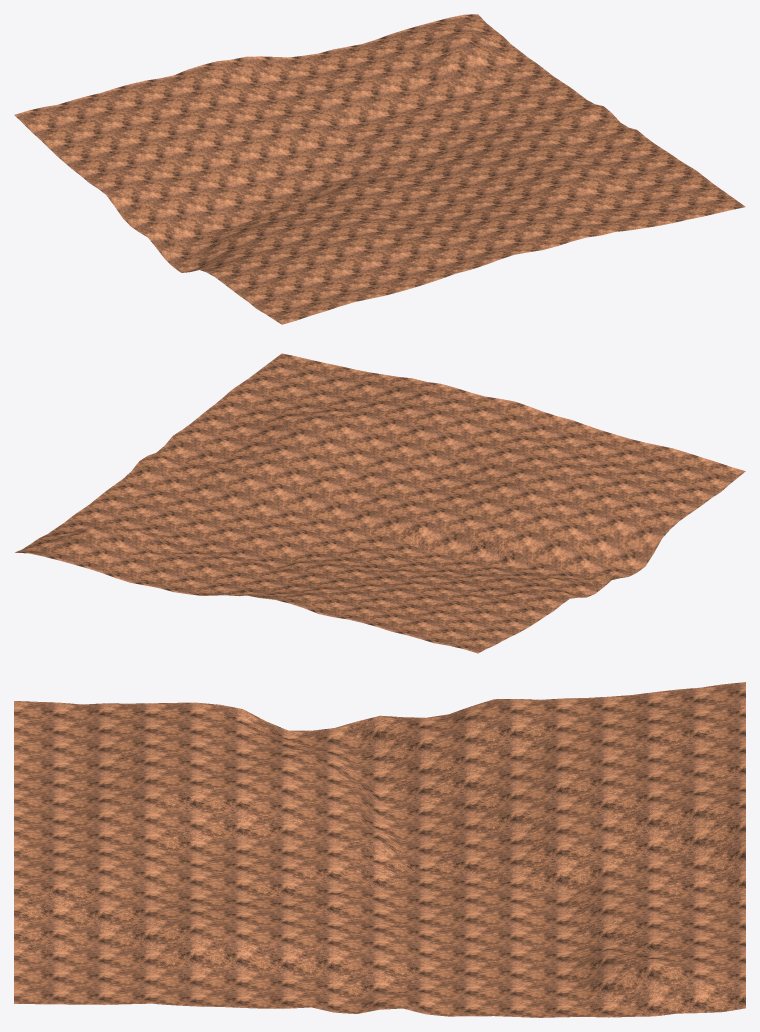
Rendered from terrain_06_18.dae.
3 renders of one model, top to bottom at view 1: azimuth 30°, elevation 25°; view 2: azimuth 150°, elevation 25°; view 3: azimuth 270°, elevation 25°, orthographic. The views are drawn at different scales.
Parts seen in each view (by area): view 1: terrain_06_18-node; view 2: terrain_06_18-node; view 3: terrain_06_18-node.
Part boxes in pixels (left/top/right/bottom): terrain_06_18-node: left=14, top=14, right=745, bottom=324; terrain_06_18-node: left=15, top=353, right=745, bottom=653; terrain_06_18-node: left=14, top=682, right=745, bottom=1017.
Size of the model in its own units: 128 by 128 by 10.49.
Materials: 1 (1 with a texture image).
